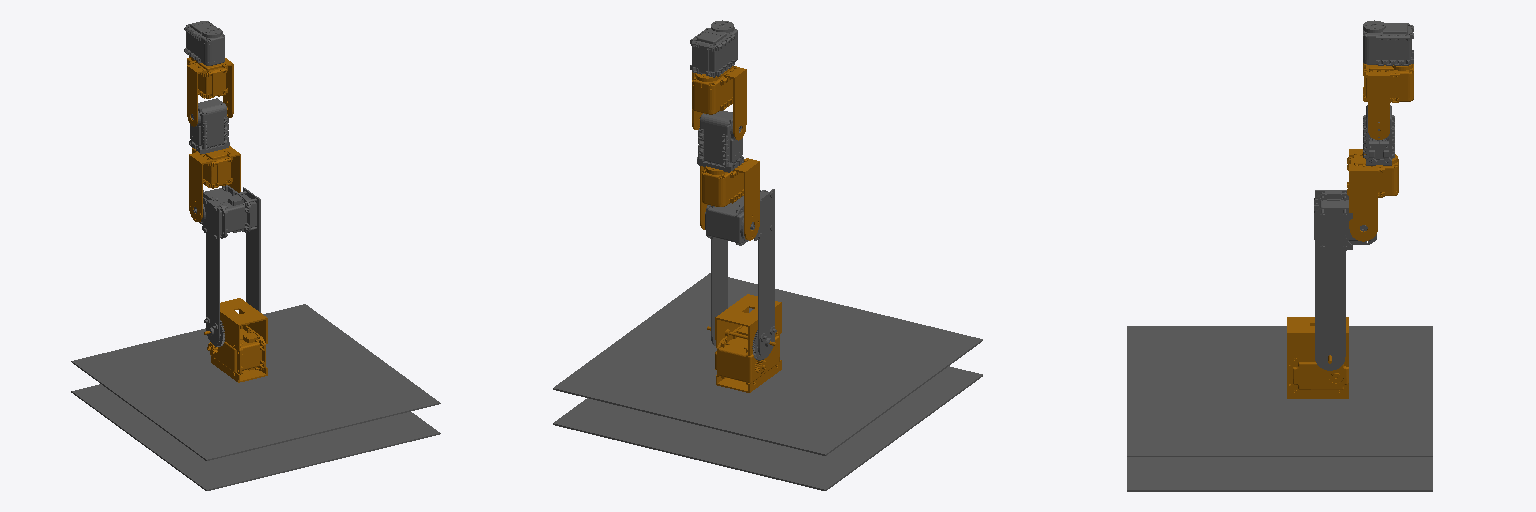
robot.urdf — clarm:
<?xml version="1.0" ?>

<!-- Robot Description format of custom 6DOF Yeti CLARM (Yeti Clamsy Arm) arm
	 [author] - [email redacted]
	 28/06/2016

Notes:

For collision tags of the first six links, same meshes were used as in visual tag. No simpler meshes are available yet for this arm. Since there are no sensitive parts on the arm and the arm is not too complicated, the actual mesh was deemed appropriate for the purpose of collision calculations.

The gripper links and joints were modified from the urdf of rst-tu-dortmund/phantomx_rst repo, and all the meshes were taken from that library, since both arms share the same gripper. 

Inertia tags were done using MeshLab;Scale set to 0.01 of original for each stl, and inertia tensors calulated with Filters -> Quality Measure and Computations -> Compute Geometric Measures. Instructions: https://www.youtube.com/watch?v=V97mRECS5oI


Documentation:

URDF
http://www.ros.org/wiki/urdf/XML


Joint Safety Limits
http://www.ros.org/wiki/pr2_controller_manager/safety_limits


XARCO - Macro Language
http://www.ros.org/wiki/xacro


Gazebo Modeling
http://www.ros.org/wiki/simulator_gazebo/Tutorials/SpawningObjectInSimulation
http://gazebosim.org/tutorials?tut=inertia&amp%3Bcat=
-->


<robot name = "clarm">

 <!-- Material specification -->
	<material name = "Grey">
	    <color rgba = "0.4 0.4 0.4 1.0"/>
	</material>

	<material name="Black">
    	    <color rgba="0.0 0.0 0.0 1.0"/>
  	</material>

  	<material name="Blue">
            <color rgba="0.0 0.0 0.8 1.0"/>
  	</material>

  	<material name="Green">
            <color rgba="0.0 0.8 0.0 1.0"/>
	</material>

	<material name="Orange">
            <color rgba="0.65 0.42 0.07 1.0"/>
	</material>

	<material name="Red">
            <color rgba="0.8 0.0 0.0 1.0"/>
 	</material>

	<material name="White">
            <color rgba="1.0 1.0 1.0 1.0"/>
	</material>

 <!-- To fix the arm in the Gazebo world. Comment out for MoveIt. -->
 <!--<link name="world"/>

	<joint name="fixed" type="fixed">
		<parent link="world"/>
		<child link="base_link"/>
	</joint> -->

 <!-- BASE LINK -->
	<link name = "base_link">
	<!--	<inertial>
      		<origin xyz="0 0 0"/>
      		<mass value="1.0"/>
      		<inertia ixx="1.0" ixy="0.0" ixz="0.0" 
      				 iyy="100.0" iyz="0.0" 
      				 izz="1.0"/>
		</inertial>
	--> <!-- Uncomment the above inertial tag for Gazebo, comment out for Moveit -->
        <visual>
			<origin rpy = "0 0 0" xyz = "0 0 0"/>
                <geometry>
                   <mesh filename="package://clarm_description/meshes/base_link.stl" scale = "0.001 0.001 0.001"/>  
                </geometry>
			<material name = "Grey"/>
        </visual>
        <collision>
      		<origin rpy="0 0 0" xyz="0 0 0"/>
      		<geometry>
        			<mesh filename="package://clarm_description/meshes/base_link.stl" scale = "0.001 0.001 0.001"/>
      		</geometry>
    	</collision>
	</link>

	<gazebo reference="base_link">
    	<material>Gazebo/Grey</material>
    	<selfCollide>true</selfCollide>
    	<gravity>true</gravity>
  	</gazebo>

 <!-- SHOULDER PAN JOINT -->
	<joint name = "shoulder_pan_joint" type = "revolute">
		<parent link="base_link" />
		<child link="shoulder_pan_link"/>
		<origin rpy="0 -1.57 0" xyz="0 0.055 0.06"/>
		<axis xyz="1 0 0" />
		<limit effort="300" lower="-2.61799387799" upper="1.98394848567" velocity="1"/>
		<dynamics damping="50" friction="1"/>
  	</joint>

 <!-- SHOULDER PAN LINK -->
	<link name = "shoulder_pan_link">
		<inertial>
      		<origin xyz="0 0 0"/>
      		<mass value="1.0"/>
      		<inertia ixx="1.0" ixy="0.0" ixz="0.0" 
      				 iyy="100.0" iyz="0.0" 
      				 izz="1.0"/>
		</inertial>
	    <visual>
			<origin rpy="0 0 0" xyz="0 0 0"/>
                <geometry>
		   			<mesh filename="package://clarm_description/meshes/shoulder_pan_link.stl" scale = "0.001 0.001 0.001"/>
                </geometry>
			<material name = "Orange"/>
        </visual>
        <collision>
      		<origin rpy="0 0 0" xyz="0 0 0"/>
      		<geometry>
        			<mesh filename="package://clarm_description/meshes/shoulder_pan_link.stl" scale = "0.001 0.001 0.001"/>
      		</geometry>
    	</collision>
    </link>

    <gazebo reference="shoulder_pan_link">
    	<material>Gazebo/Orange</material>
    	<selfCollide>true</selfCollide>
    	<gravity>true</gravity>
  	</gazebo>

 <!-- SHOULDER PITCH JOINT -->
	<joint name="shoulder_pitch_joint" type="revolute">
		<parent link="shoulder_pan_link" />	
		<child link="shoulder_pitch_link"/>
		<origin rpy="0 0 0" xyz="0.0235 -0.0065 0.031"/> 
		<axis xyz="0 0 1" />
		<limit effort="300" lower="-1.19962513147" upper="1.55" velocity="1"/>
		<dynamics damping="50" friction="1"/>
  	</joint>

 <!-- SHOULDER PITCH LINK -->
	<link name = "shoulder_pitch_link">
		<inertial>
      		<origin xyz="0 0 0"/>
      		<mass value="1.0"/>
      		<inertia ixx="1.0" ixy="0.0" ixz="0.0" 
      				 iyy="100.0" iyz="0.0" 
      				 izz="1.0"/>
		</inertial>
	    <visual>
			<origin rpy="0 0 0" xyz="0 0 0"/>
                <geometry>
                    <mesh filename="package://clarm_description/meshes/shoulder_pitch_link.stl" scale = "0.001 0.001 0.001"/>
                </geometry>
			<material name = "Grey"/>
        </visual>
        <collision>
      		<origin rpy="0 0 0" xyz="0 0 0"/>
      		<geometry>
        			<mesh filename="package://clarm_description/meshes/shoulder_pitch_link.stl" scale = "0.001 0.001 0.001"/>
      		</geometry>
    	</collision>
    </link>

    <gazebo reference="shoulder_pitch_link">
    	<material>Gazebo/Grey</material>
    	<selfCollide>true</selfCollide>
    	<gravity>true</gravity>
  	</gazebo>

 <!-- ELBOW PITCH JOINT -->
	<joint name="elbow_pitch_joint" type="revolute">
		<parent link="shoulder_pitch_link"/>
		<child link="elbow_pitch_link"/>
		<origin rpy = "0 1.57 0" xyz = "0.136 0.0335 -0.002"/>
		<axis xyz="1 0 0" />
		<limit effort="300" lower="-1.5953400194" upper="0" velocity="1"/>
		<dynamics damping="50" friction="1"/>
  	</joint>

 <!-- ELBOW PITCH LINK -->
	<link name = "elbow_pitch_link">
		<inertial>
      		<origin xyz="0 0 0"/>
      		<mass value="1.0"/>
      		<inertia ixx="1.0" ixy="0.0" ixz="0.0" 
      				 iyy="100.0" iyz="0.0" 
      				 izz="1.0"/>
		</inertial>
	    <visual>
			<origin rpy = "0 0 0" xyz = "0 0 0"/>
                <geometry>
                    <mesh filename="package://clarm_description/meshes/elbow_pitch_link.stl" scale = "0.001 0.001 0.001"/>
                </geometry>
			<material name = "Orange"/>
        </visual>
        <collision>
      		<origin rpy="0 0 0" xyz="0 0 0"/>
      		<geometry>
        			<mesh filename="package://clarm_description/meshes/elbow_pitch_link.stl" scale = "0.001 0.001 0.001"/>
      		</geometry>
    	</collision>
    </link>

    <gazebo reference="elbow_pitch_link">
    	<material>Gazebo/Orange</material>
    	<selfCollide>true</selfCollide>
    	<gravity>true</gravity>
  	</gazebo>

 <!-- ELBOW ROLL JOINT -->
	<joint name="elbow_roll_joint" type="revolute">
		<parent link="elbow_pitch_link"/>
		<child link="elbow_roll_link"/>
		<origin rpy = "1.57 0 -1.57" xyz = "0.025 0.015 0.065"/>
		<axis xyz="0 1 0" />
		<limit effort="300" lower="-2.61799387799" upper="0.705631162427" velocity="1"/>
		<dynamics damping="50" friction="1"/>
  	</joint>

 <!-- ELBOW ROLL LINK -->
	<link name = "elbow_roll_link">
		<inertial>
      		<origin xyz="0 0 0"/>
      		<mass value="1.0"/>
      		<inertia ixx="1.0" ixy="0.0" ixz="0.0" 
      			 	 iyy="100.0" iyz="0.0" 
      			 	 izz="1.0"/>
		</inertial>
        <visual>
			<origin rpy = "0 0 0" xyz = "0 0 0"/>
                <geometry>
                    <mesh filename="package://clarm_description/meshes/elbow_roll_link.stl" scale = "0.001 0.001 0.001"/>
                </geometry>
			<material name = "Grey"/>
        </visual>
        <collision>
      		<origin rpy="0 0 0" xyz="0 0 0"/>
      		<geometry>
        			<mesh filename="package://clarm_description/meshes/elbow_roll_link.stl" scale = "0.001 0.001 0.001"/>
      		</geometry>
    	</collision>
    </link>

    <gazebo reference="elbow_roll_link">
    	<material>Gazebo/Grey</material>
    	<selfCollide>true</selfCollide>
    	<gravity>true</gravity>
  	</gazebo>

 <!-- WRIST PITCH JOINT -->
	<joint name="wrist_pitch_joint" type="revolute">
		<parent link="elbow_roll_link"/>
		<child link="wrist_pitch_link"/>
		<origin rpy = "0 1.57 1.57" xyz = "0 0.042 -0.025"/>
		<axis xyz="1 0 0" />
		<limit effort="300" lower="-1.5953400194" upper="1.98394848567" velocity="1"/>
		<dynamics damping="50" friction="1"/>
 	 </joint>

 <!-- WRIST PITCH LINK -->
	<link name = "wrist_pitch_link">
		<inertial>
      		<origin xyz="0 0 0"/>
      		<mass value="1.0"/>
     		<inertia ixx="1.0" ixy="0.0" ixz="0.0" 
     				 iyy="100.0" iyz="0.0" 
     				 izz="1.0"/>
		</inertial>
        <visual>
			<origin rpy = "0 0 0" xyz = "0 0 0"/>
                <geometry>
                    <mesh filename="package://clarm_description/meshes/wrist_pitch_link.stl" scale = "0.001 0.001 0.001"/>
                </geometry>
			<material name = "Orange"/>
        </visual>
        <collision>
      		<origin rpy="0 0 0" xyz="0 0 0"/>
      		<geometry>
        			<mesh filename="package://clarm_description/meshes/wrist_pitch_link.stl" scale = "0.001 0.001 0.001"/>
      		</geometry>
    	</collision>
    </link>

    <gazebo reference="wrist_pitch_link">
    	<material>Gazebo/Orange</material>
    	<selfCollide>true</selfCollide>
    	<gravity>true</gravity>
  	</gazebo>

 <!-- WRIST ROLL JOINT -->
	<joint name="wrist_roll_joint" type="revolute">
		<parent link="wrist_pitch_link"/>
		<child link="wrist_roll_link" />
		<origin rpy = "0 0 3.14" xyz = "-0.0245 0.02 0.065"/>
		<axis xyz="0 0 1" />
		<limit effort="300" lower="-2.61799387799" upper="2.6128806087" velocity="1"/>
		<dynamics damping="50" friction="1"/>
  	</joint>

 <!-- WRIST ROLL LINK -->
	<link name = "wrist_roll_link">
		<inertial>
      		<origin xyz="0 0 0"/>
      		<mass value="1.0"/>
      		<inertia ixx="1.0" ixy="0.0" ixz="0.0" 
      				 iyy="100.0" iyz="0.0" 
      				 izz="1.0"/>
		</inertial>
        <visual>
			<origin rpy = "0 0 0" xyz = "0 0 0"/>
                <geometry>
                    <mesh filename="package://clarm_description/meshes/wrist-roll.stl" scale = "0.001 0.001 0.001"/>
                </geometry>
			<material name = "Grey"/>
        </visual>
        <collision>
      		<origin rpy="0 0 0" xyz="0 0 0"/>
      		<geometry>
        			<mesh filename="package://clarm_description/meshes/wrist-roll.stl" scale = "0.001 0.001 0.001"/>
      		</geometry>
    	</collision>
    </link>

    <gazebo reference="wrist_roll_link">
    	<material>Gazebo/Grey</material>
    	<selfCollide>true</selfCollide>
    	<gravity>true</gravity>
  	</gazebo>

 <!-- GRIPPER BASE JOINT -->
 	<joint name="gripper_base_joint" type="fixed">
    	<parent link="wrist_roll_link"/>
    	<child link="gripper_finger_base_link"/>
    	<origin rpy="1.570795 -1.570795 1.570795" xyz="0.015  0.02 0.022"/>
  	</joint>

 <!-- GRIPPER FINGER BASE LINK -->
  	<link name="gripper_finger_base_link">
    	<inertial>
     		<mass value="0.00001"/>
      		<origin xyz="0 0 0"/>
      		<inertia ixx="1.0" ixy="0.0" ixz="0.0" 
      				 iyy="1.0" iyz="0.0" 
      				 izz="1.0"/>
    	</inertial>
    	<visual>
      		<origin rpy="3.14159 -1.570795 1.570795" xyz="0.016 0 -.015 "/>
      		<geometry>
       			<mesh filename="package://clarm_description/meshes/pincher_finger_base.stl" scale=".01 .01 .01"/>
      		</geometry>
      		<material name="Orange"/>
    	</visual>
    	<collision>
      		<origin rpy="0 0 0" xyz="0.015 0 -0.0135"/>
      		<geometry>
        		<box size="0.002 0.040 0.075"/>
      		</geometry>
    	</collision>
  	</link>

 	<gazebo reference="gripper_finger_base_link">
    	<material>Gazebo/Orange</material>
    	<selfCollide>true</selfCollide>
    	<gravity>true</gravity>
  	</gazebo>

 <!-- GRIPPER JOINT -->
  	<joint name="gripper_joint" type="prismatic">
   		<origin rpy="1.57 0 0" xyz="0.01 0.02 0.019"/>
    	<axis xyz="1 0 0"/>
    	<limit effort="30" lower="0.002" upper="0.031" velocity="0.5"/>
    	<parent link="wrist_roll_link"/>
    	<child link="gripper_active_link"/>
  	</joint>

 <!-- GRIPPER ACTIVE LINK -->
  	<link name="gripper_active_link">
    	<inertial>
      		<mass value="0.00001"/>
      		<origin xyz="0 0 0"/>
      		<inertia ixx="1.0" ixy="0.0" ixz="0.0" 
      				 iyy="1.0" iyz="0.0" 
      				 izz="1.0"/>
    	</inertial>
    	<visual>
     		<origin rpy="-1.57 0 0" xyz="-0.02 0.023 0"/>
      		<geometry>
        			<mesh filename="package://clarm_description/meshes/pincher_finger.stl" scale=".01 .01 .01"/>
      		</geometry>
      		<material name="Orange"/>
    	</visual>
    	<collision>
      		<origin rpy="-1.570795 0 0" xyz="-0.02 0.023 0"/>
      		<geometry>
        			<box size="0.036 0.028 0.004"/>
      		</geometry>
    	</collision>
	</link>

	<gazebo reference="gripper_active_link">
    	<material>Gazebo/Orange</material>
    	<selfCollide>true</selfCollide>
    	<gravity>true</gravity>
  	</gazebo>

 <!-- GRIPPER2 JOINT -->
  	<joint name="gripper2_joint" type="fixed">
  		<origin rpy="1.57 0 0" xyz="0.01 0.02 0.019"/>
    	<parent link="wrist_roll_link"/>
    	<child link="gripper_active2_link"/>
  	</joint>

 <!-- GRIPPER ACTIVE2 LINK -->
  	<link name="gripper_active2_link">
    	<inertial>
      		<mass value="0.00001"/>
      		<origin xyz="0 0 0"/>
      	<inertia ixx="1.0" ixy="0.0" ixz="0.0" 
      			 iyy="1.0" iyz="0.0" 
      			 izz="1.0"/>
    	</inertial>
    	<visual>
     		<origin rpy="-1.57 3.14159 0" xyz="-0.02 0.023 0"/>
      		<geometry>
        			<mesh filename="package://clarm_description/meshes/pincher_finger.stl" scale=".01 .01 .01"/>
      		</geometry>
      		<material name="Orange"/>
    	</visual>
    	<collision>
      		<origin rpy="-1.570795 3.14159 0" xyz="-0.02 0.023 0"/>
      		<geometry>
        			<box size="0.036 0.028 0.004"/>
      		</geometry>
    	</collision>
  	</link>

  	<gazebo reference="gripper_active2_link">
    	<material>Gazebo/Orange</material>
    	<selfCollide>true</selfCollide>
    	<gravity>true</gravity>
	</gazebo>

</robot>

--- What the picture shows (computed from the rendered views, not written in the file) ---
Views: 3 orthographic renders of the robot side by side, from view 1: azimuth 30°, elevation 25°; view 2: azimuth 150°, elevation 25°; view 3: azimuth 270°, elevation 25°.
Robot: clarm — 10 links, 9 joints (6 revolute, 1 prismatic, 2 fixed); root link base_link; default pose: joints at zero except 1 at the middle of their limits (gripper_joint = 0.0165).
Links seen in each view (by area): view 1: base_link, shoulder_pitch_link, shoulder_pan_link, elbow_pitch_link, wrist_pitch_link, elbow_roll_link, wrist_roll_link; view 2: base_link, shoulder_pitch_link, shoulder_pan_link, elbow_pitch_link, wrist_pitch_link, elbow_roll_link, wrist_roll_link; view 3: base_link, shoulder_pitch_link, shoulder_pan_link, elbow_pitch_link, wrist_pitch_link, wrist_roll_link, elbow_roll_link.
Link boxes in pixels (x1,y1,x2,y2): base_link: (71,304,440,490); shoulder_pitch_link: (193,185,260,346); shoulder_pan_link: (204,298,267,382); elbow_pitch_link: (189,146,240,221); wrist_pitch_link: (187,56,233,126); elbow_roll_link: (189,98,229,153); wrist_roll_link: (184,21,224,65); base_link: (553,273,982,490); shoulder_pitch_link: (705,189,776,360); shoulder_pan_link: (707,294,781,392); elbow_pitch_link: (700,158,759,240); wrist_pitch_link: (692,66,746,140); elbow_roll_link: (697,110,743,172); wrist_roll_link: (690,20,737,77); base_link: (1127,326,1432,491); shoulder_pitch_link: (1314,190,1376,370); shoulder_pan_link: (1287,317,1348,398); elbow_pitch_link: (1347,149,1398,241); wrist_pitch_link: (1363,63,1413,139); wrist_roll_link: (1363,20,1413,65); elbow_roll_link: (1363,105,1394,165).
Bounding box of the posed robot: 0.3 × 0.3 × 0.4335 m (x, y, z).
Meshes: 9 distinct files referenced, 7 mesh visuals loaded (7 binary STL); not drawn: 3 (reference not matched to a file when rendering).
